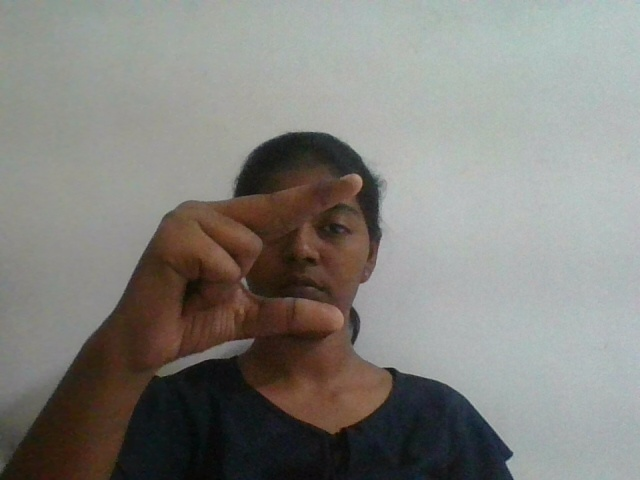No: (117, 169, 367, 360)
